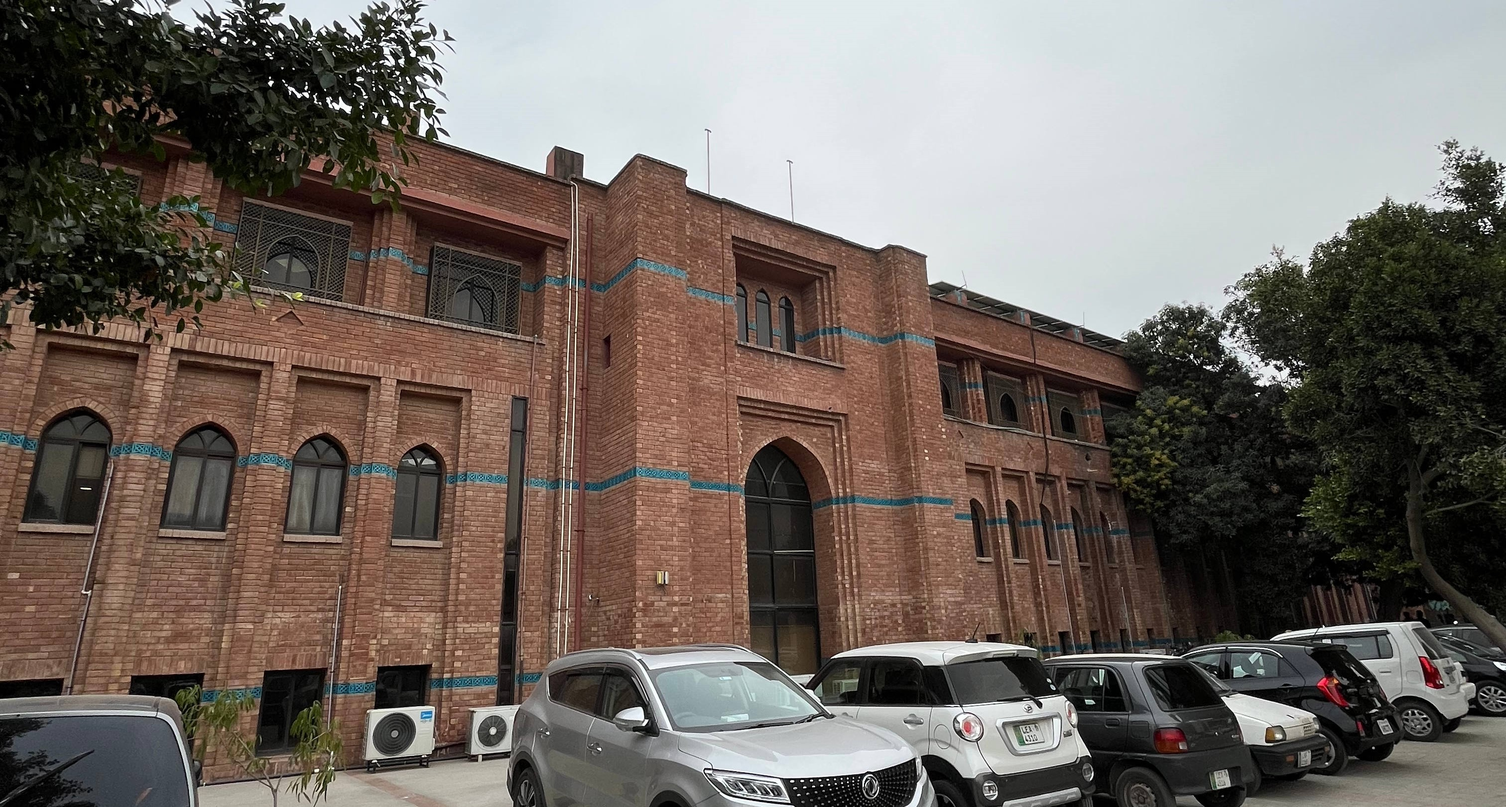Block D: (20, 62, 1397, 664)
